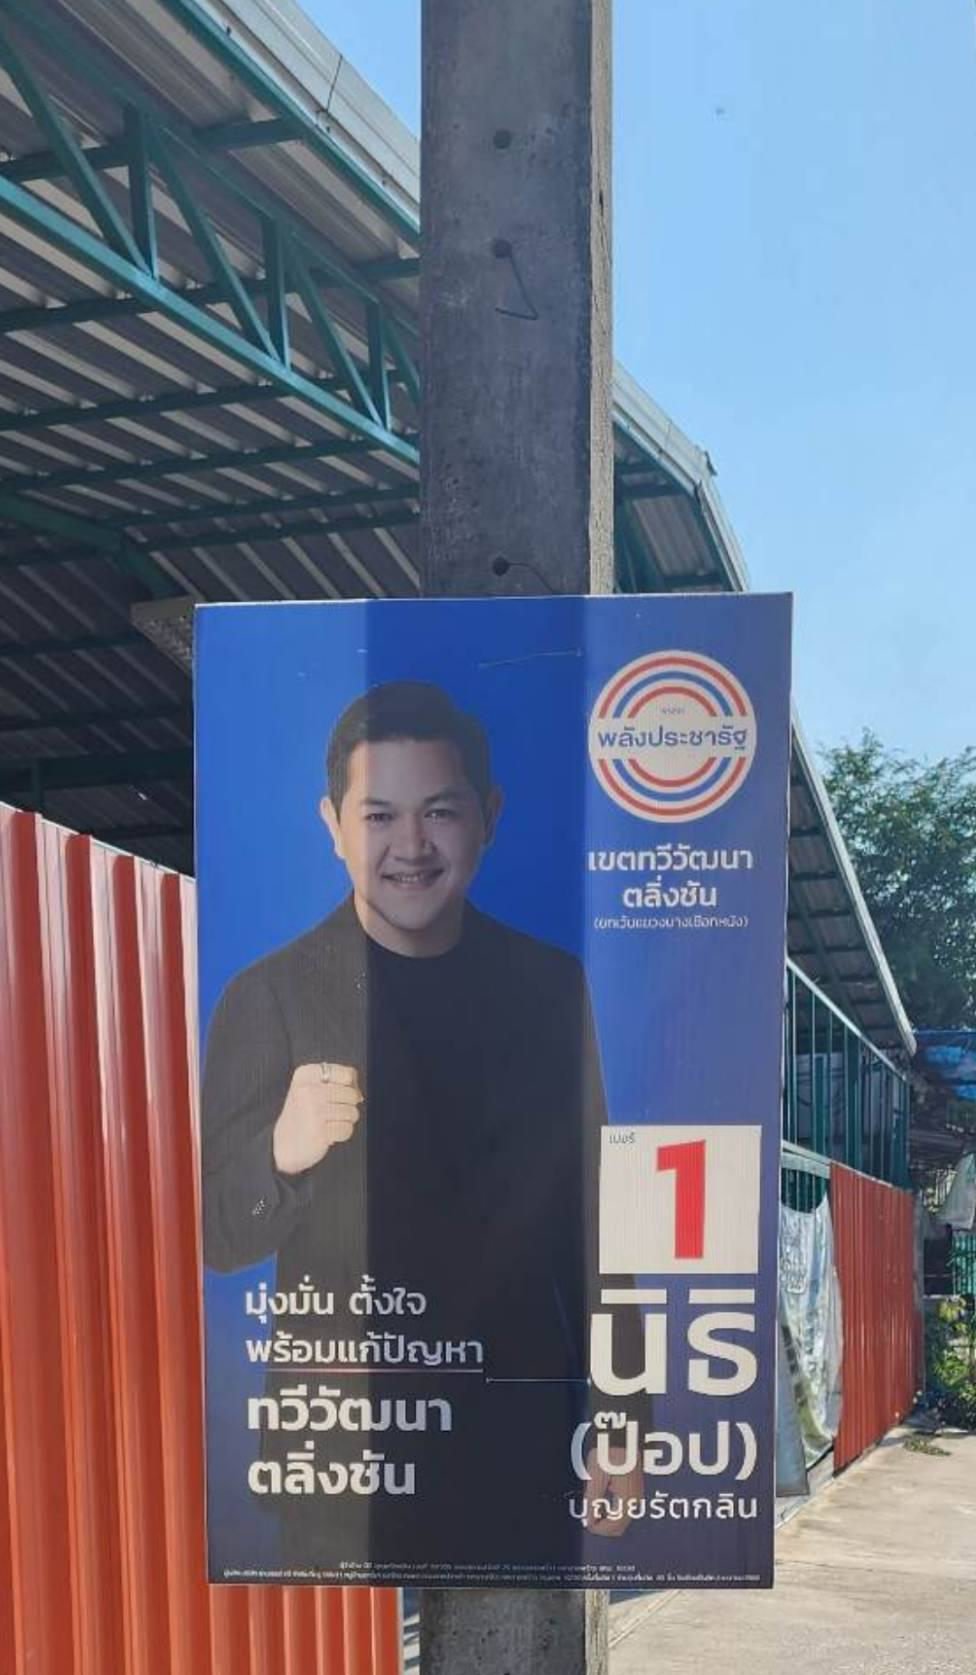Banner: (189, 608, 774, 1584)
